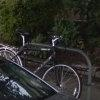Bicycle: (0, 30, 84, 97)
